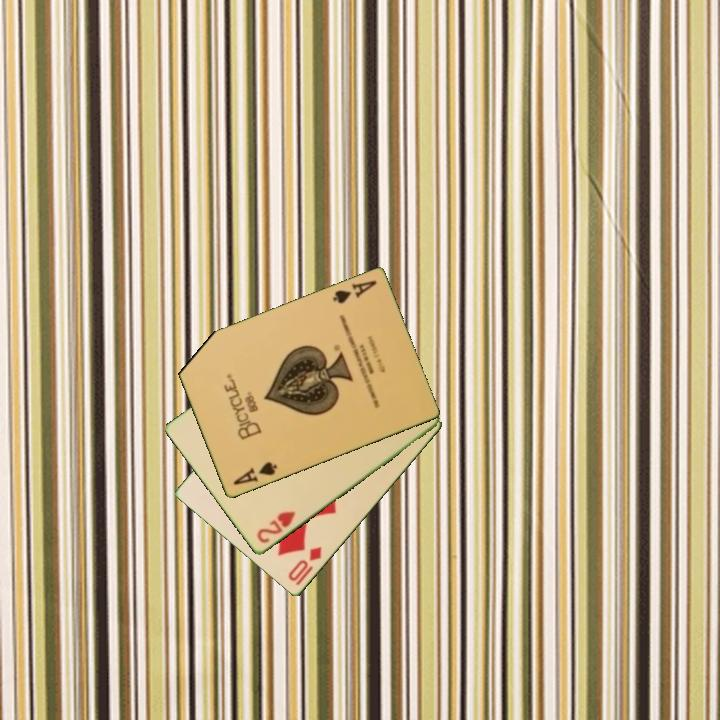10d: (284, 543, 325, 585)
2h: (253, 508, 298, 547)
As: (329, 277, 379, 307), (229, 459, 280, 488)
